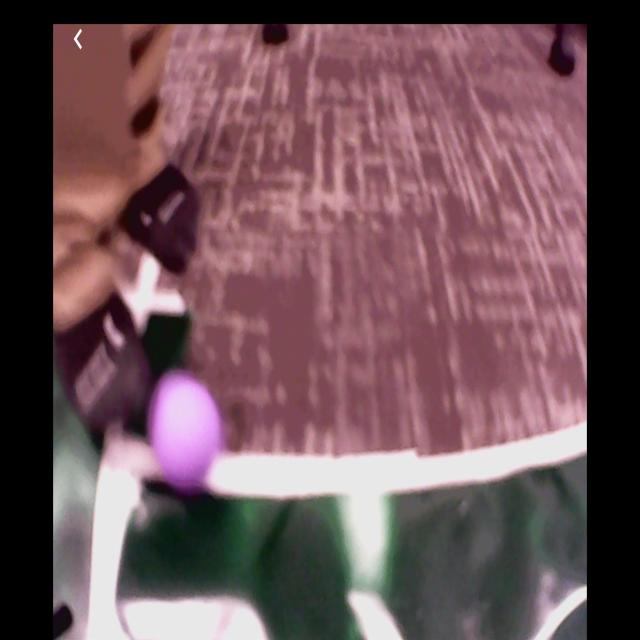ball: (151, 374, 221, 489)
